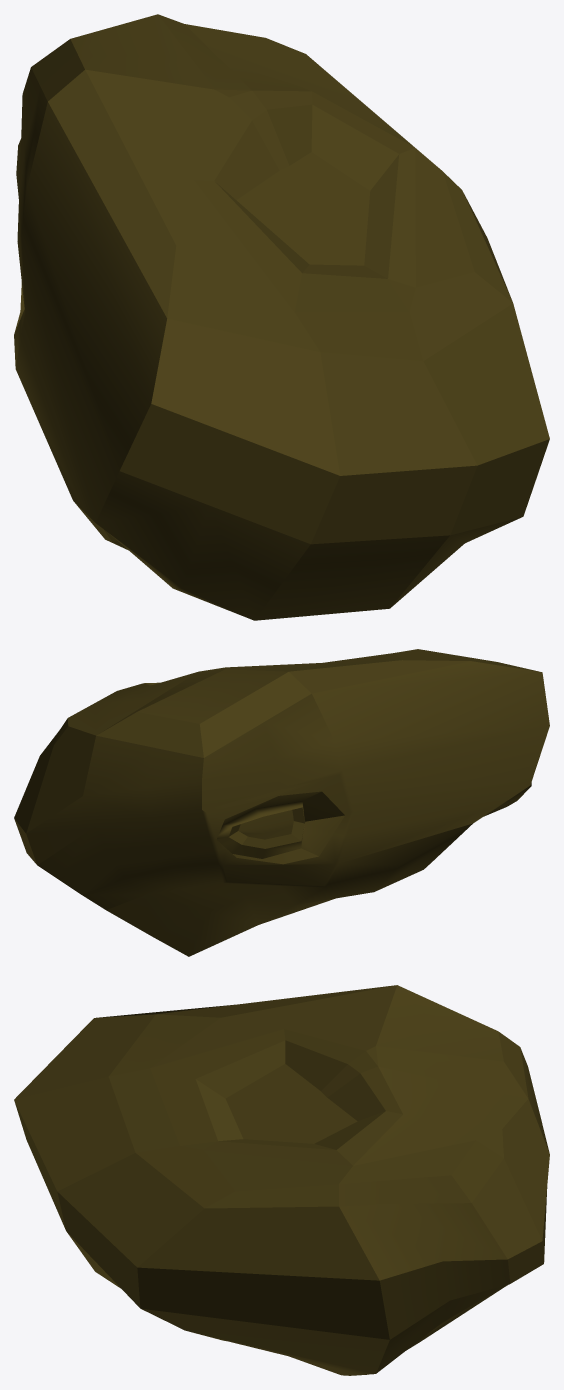
The model's file is AsteroidV3.fbx.
3 views of the same model, one above another, from view 1: azimuth 30°, elevation 25°; view 2: azimuth 150°, elevation 25°; view 3: azimuth 270°, elevation 25° (orthographic). The views are drawn at different scales.
Parts seen in each view (by area): view 1: AsteroidV9; view 2: AsteroidV9; view 3: AsteroidV9.
Boxes of the visible parts, x1,y1,x2,y2 form: AsteroidV9: (14,14,549,620); AsteroidV9: (14,649,549,956); AsteroidV9: (14,985,549,1375).
Size of the model in its own units: 10.72 by 8.73 by 13.06.
